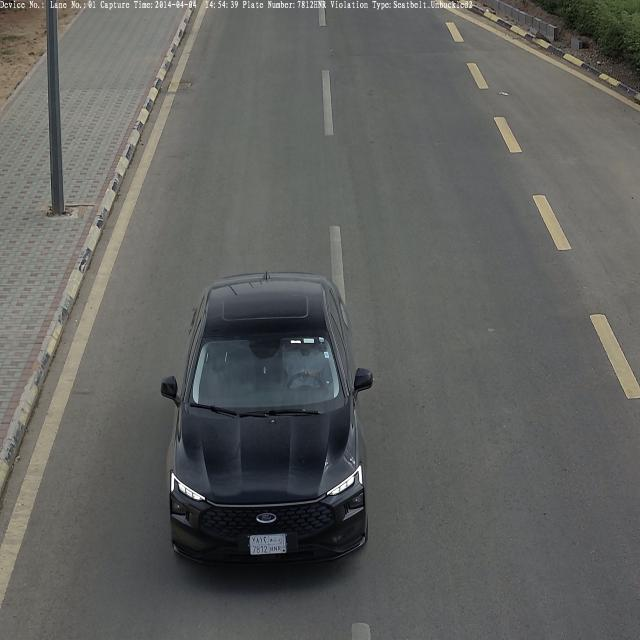person_without_seatbelt: (286, 343, 327, 389)
